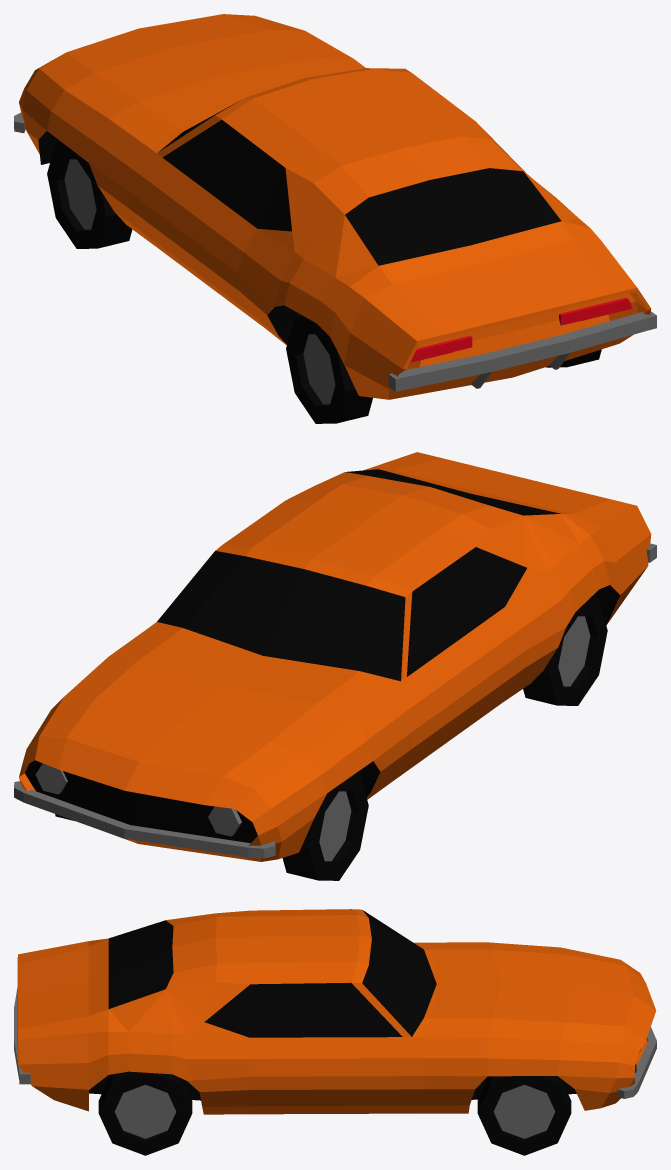
Rendered from auto.glb.
The picture shows the model from 3 angles, top to bottom: view 1: azimuth 30°, elevation 25°; view 2: azimuth 150°, elevation 25°; view 3: azimuth 270°, elevation 25°; orthographic projection. The views are drawn at different scales.
Visible parts, largest first — view 1: Body_0; view 2: Body_0; view 3: Body_0.
Boxes of the visible parts, x1,y1,x2,y2 form: Body_0: [14, 14, 656, 423]; Body_0: [14, 452, 656, 880]; Body_0: [14, 909, 656, 1155].
Size of what is drawn, in the model's own units: 1.31 by 0.9189 by 3.16.
